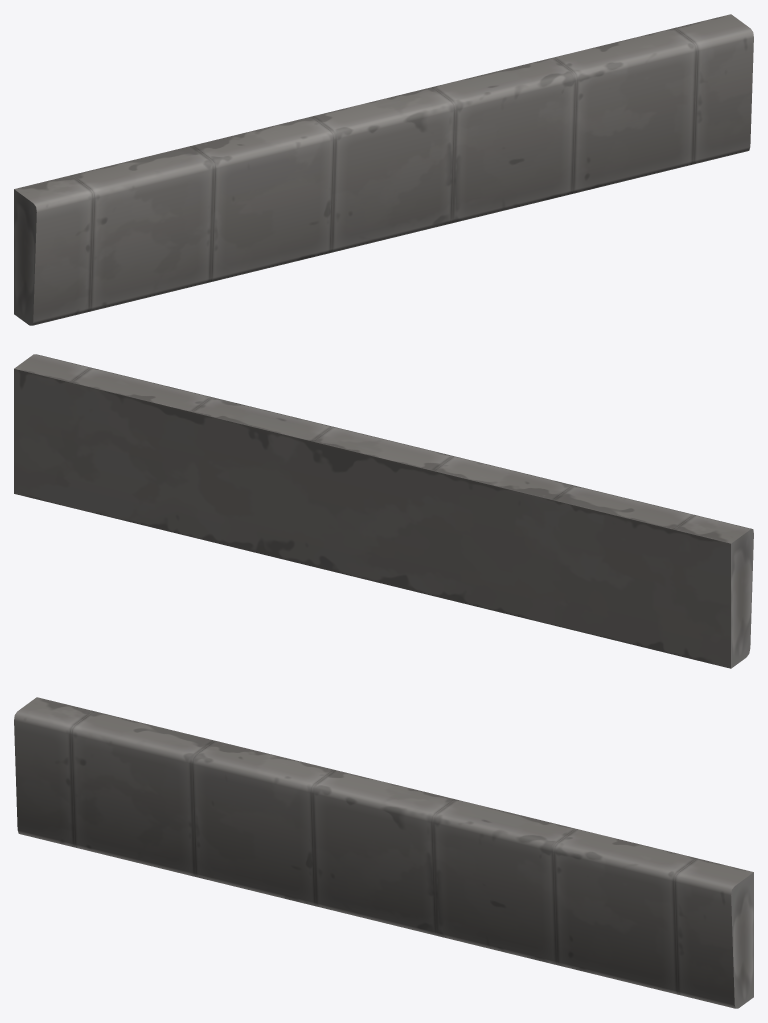
The model's file is PropTrimFacade02_2.FBX.
3 views of the same model, one above another, from view 1: azimuth 30°, elevation 25°; view 2: azimuth 150°, elevation 25°; view 3: azimuth 330°, elevation 25° (orthographic).
Visible parts, largest first — view 1: PropTrimFacade02_2; view 2: PropTrimFacade02_2; view 3: PropTrimFacade02_2.
Boxes of the visible parts, box(x1,y1,x2,y2) form: PropTrimFacade02_2: box(14, 14, 753, 325); PropTrimFacade02_2: box(14, 354, 753, 668); PropTrimFacade02_2: box(14, 697, 753, 1008).
Size of what is drawn, in the model's own units: 4.5 by 0.75 by 0.2483.
